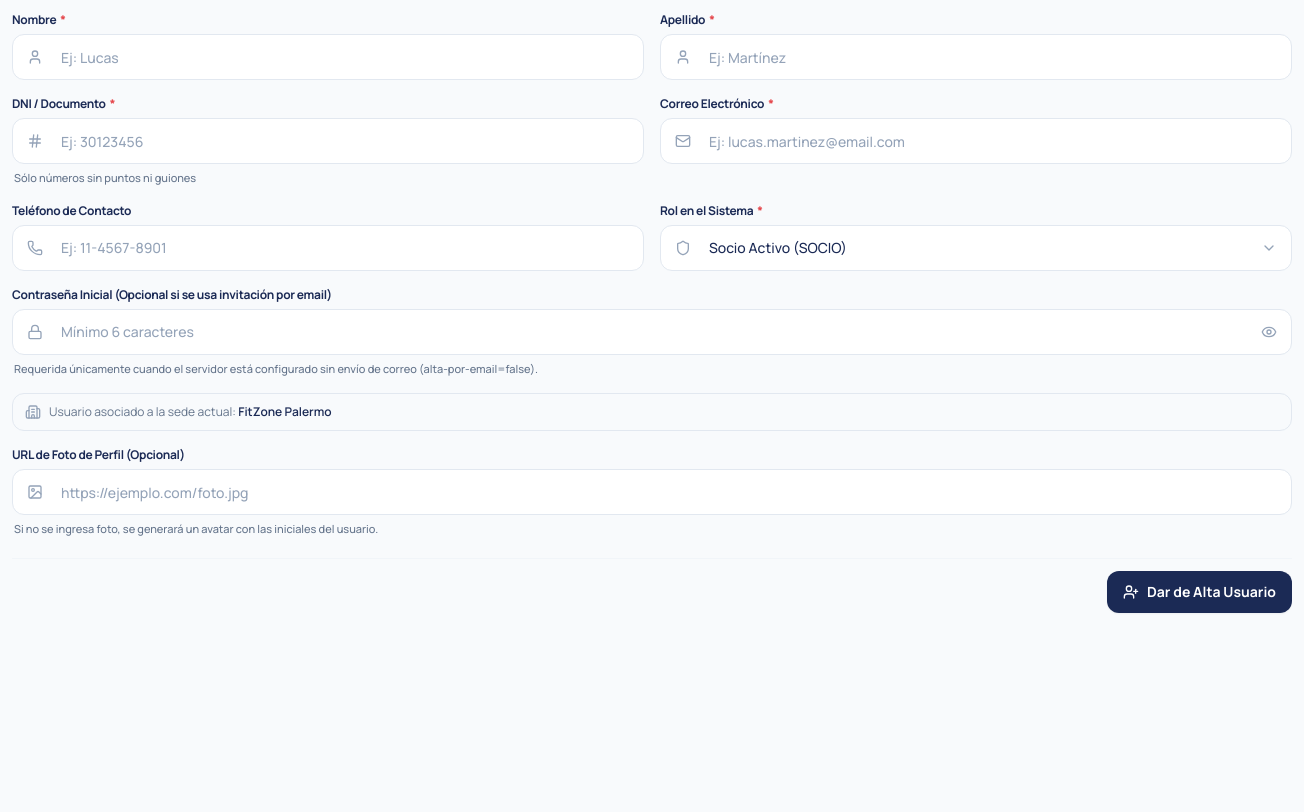
Test: UsuarioForm Component › DOES display sede selector when role is changed to RECEPCIONISTA or GERENTE
// Cambiar a RECEPCIONISTA
Select "Recepcionista (RECEPCIONISTA)" in the dropdown labelled "Rol en el Sistema*" at (993, 248), box [695,226,1291,270]
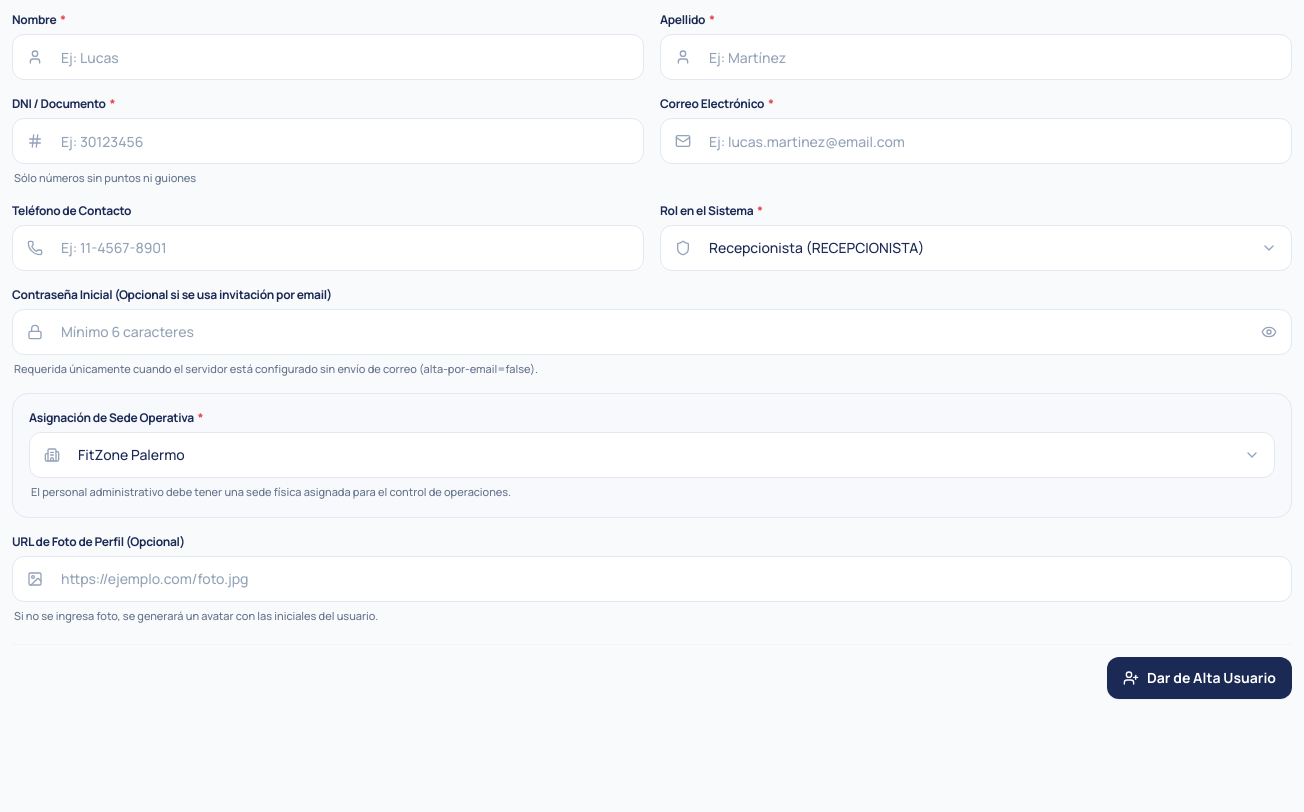
Now the dropdown labelled "Asignación de Sede Operativa*" is shown, box [64,433,1274,477]
// Cambiar a GERENTE
Select "Gerente General (GERENTE)" in the dropdown labelled "Rol en el Sistema*" at (993, 248), box [695,226,1291,270]
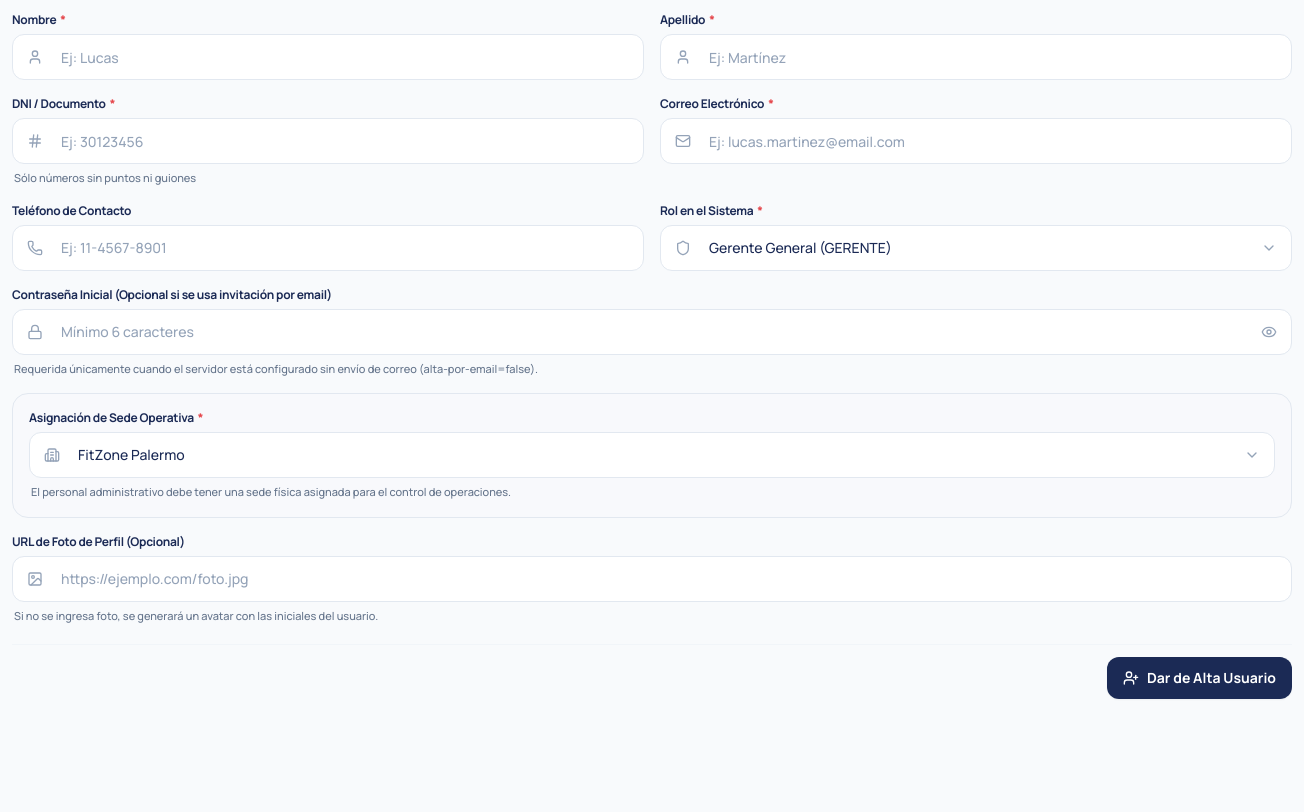
Now the dropdown labelled "Asignación de Sede Operativa*" is shown, box [64,433,1274,477]
// Cambiar de nuevo a EXTERNO
Select "Cliente Externo / Invitado (EXTERNO)" in the dropdown labelled "Rol en el Sistema*" at (993, 248), box [695,226,1291,270]
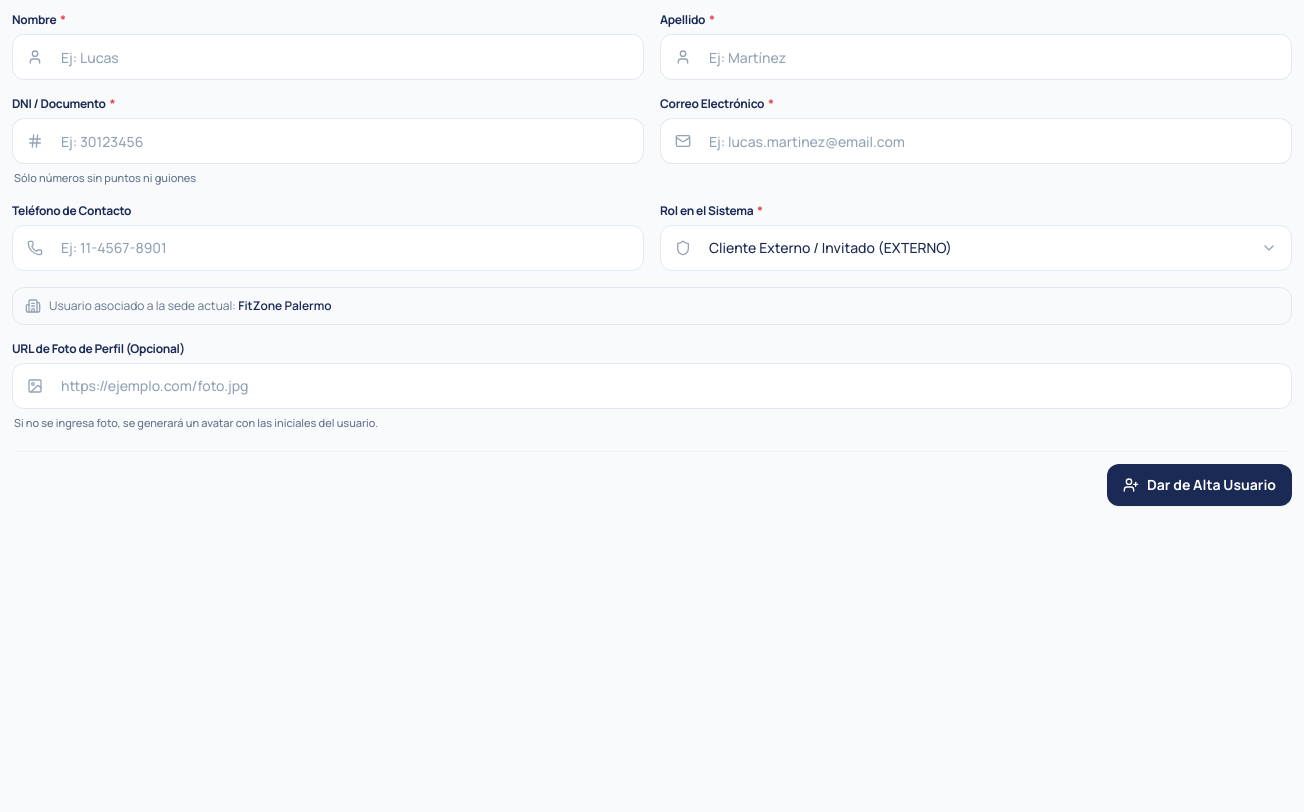
Now the label labelled "Asignación de Sede Operativa" is gone
